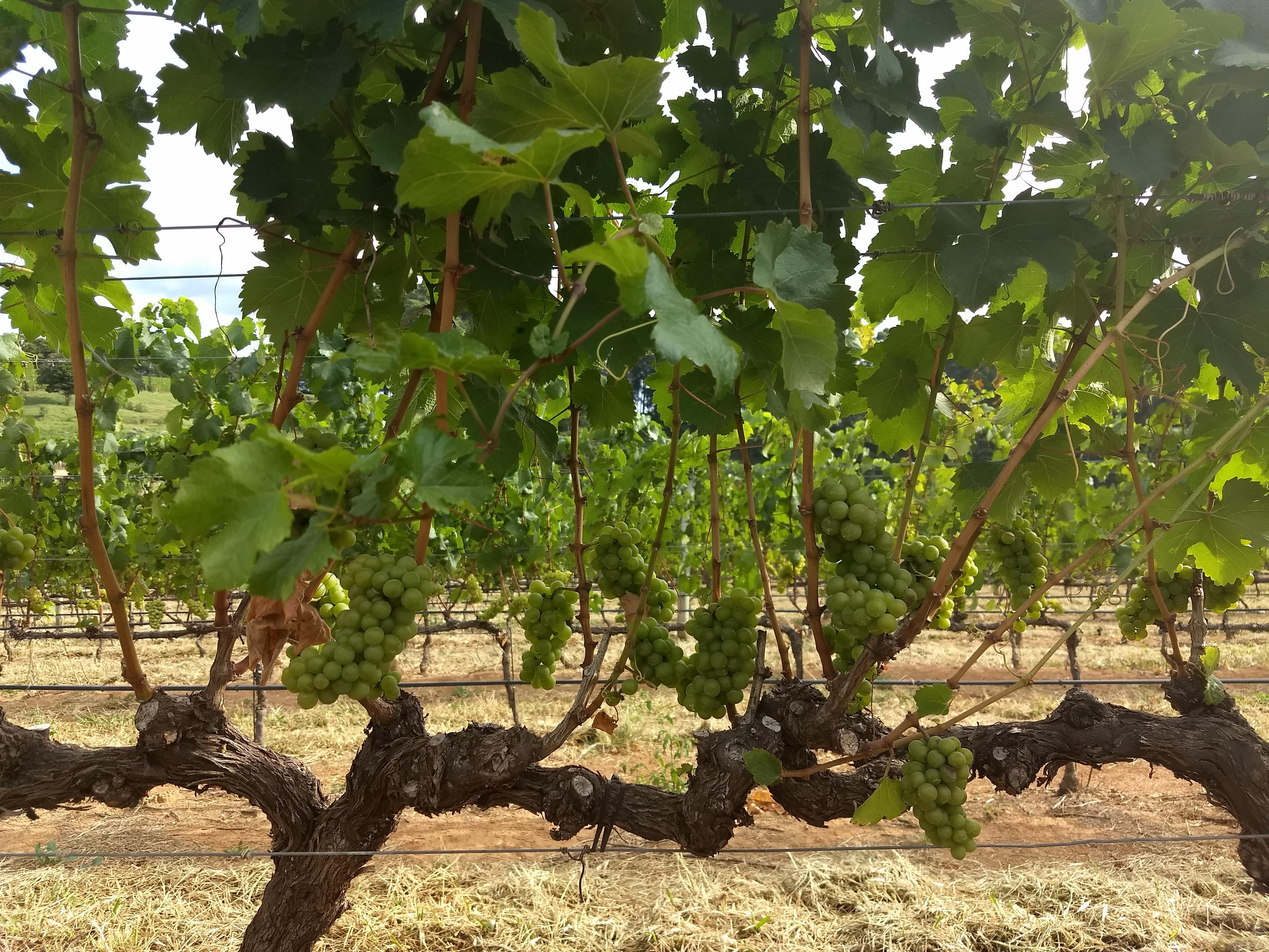leaf: (470, 3, 664, 141), (397, 104, 602, 227), (169, 439, 292, 588), (222, 21, 357, 123), (645, 258, 738, 393), (155, 26, 247, 160), (1152, 479, 1268, 584), (240, 240, 334, 340), (1082, 0, 1186, 88), (394, 426, 491, 511), (753, 219, 837, 307), (860, 252, 952, 329), (248, 522, 338, 599), (773, 298, 837, 394), (1100, 117, 1179, 188), (1019, 422, 1082, 499), (858, 354, 927, 420), (883, 0, 960, 51), (572, 369, 635, 428), (952, 461, 1005, 516), (677, 45, 740, 90), (851, 777, 907, 824), (989, 471, 1029, 521), (321, 281, 354, 329), (742, 748, 782, 787), (914, 683, 954, 717), (1203, 675, 1226, 706), (1198, 645, 1219, 676), (790, 384, 792, 387), (504, 424, 505, 425), (799, 388, 811, 388)
